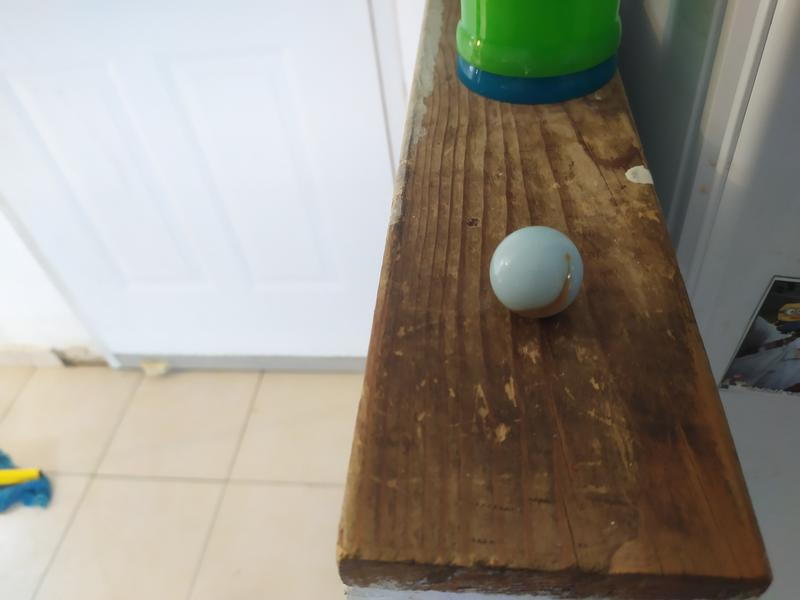Warning: (486, 220, 589, 323)
